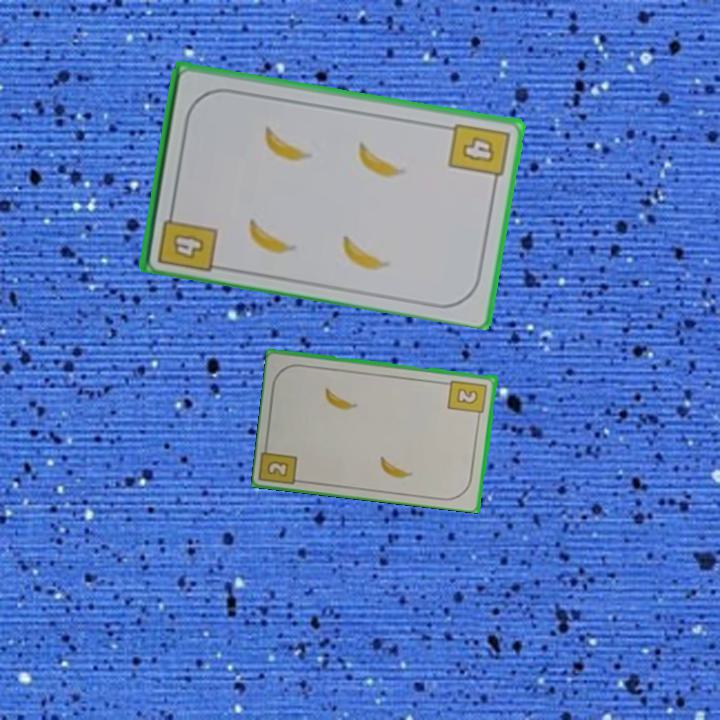2b: (445, 376, 490, 422), (263, 457, 292, 480)
4b: (444, 119, 512, 189), (154, 202, 220, 274)
